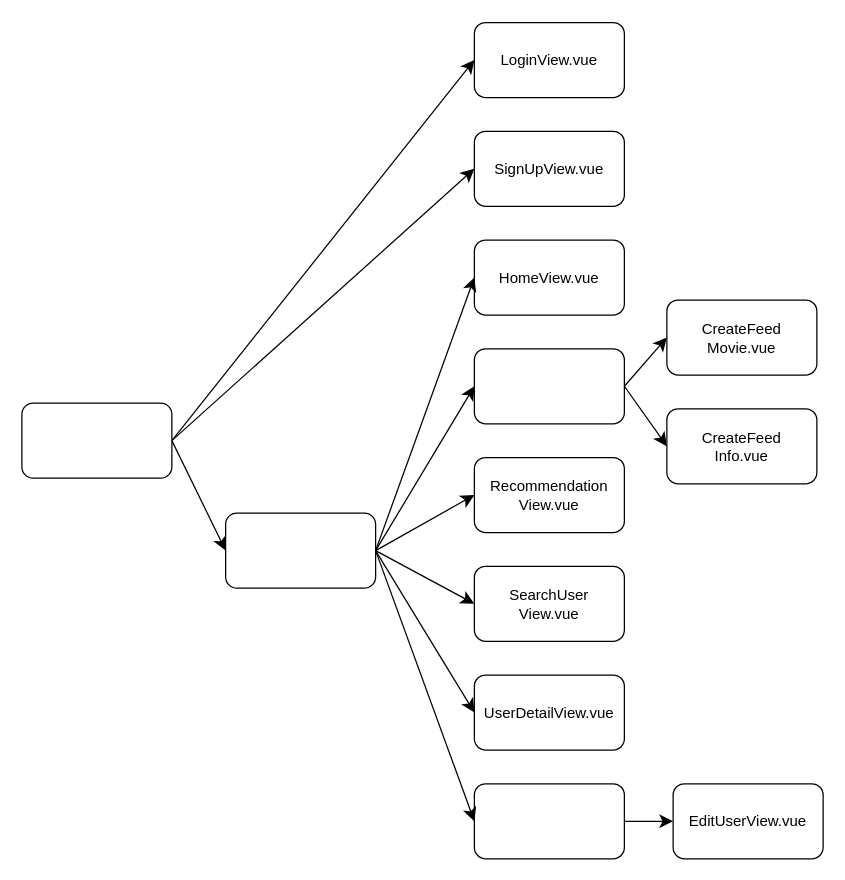
Image size: 845x880. Some labels were removed from this diagram. The shapes that lost their labels are listed below. From the top down, each one's centre as x and y in pixels, then its label:
At (548,386): "CreateFeedView.vue".
At (96,440): "App.vue".
At (300,550): "AppNavbar .vue".
At (548,820): "MyPage View.vue".
